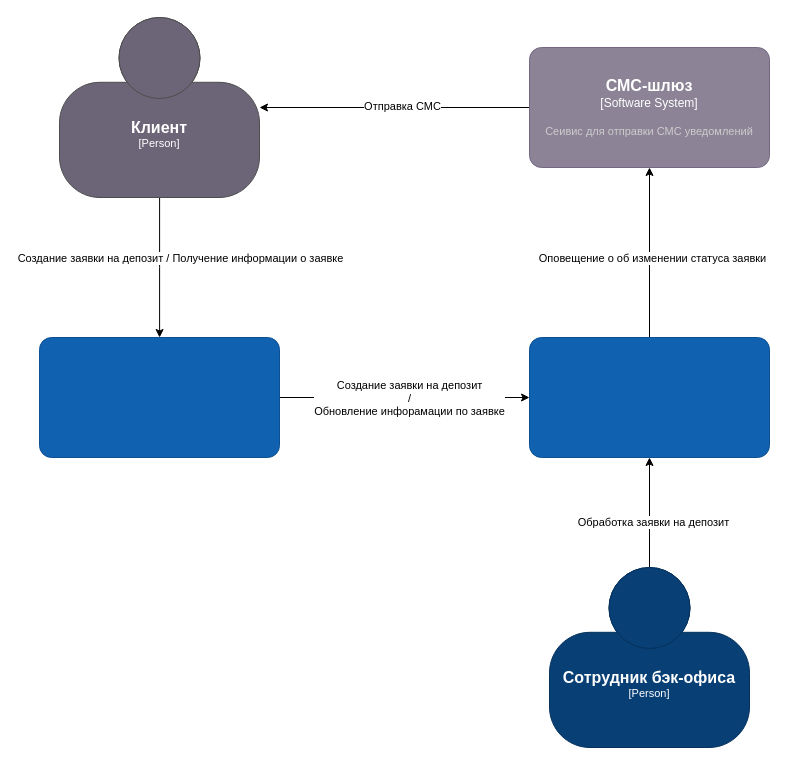
Image size: 787x765. Some labels were removed from this diagram. The shapes that lost their labels are listed below. From the top down, each one's centre as x and y in pixels, then its label:
pixel 159 397: Интернет банк [Software System] Создание и отображение заявок на депозит
pixel 649 397: АБС [Software System] Обработка заявок на депозит
